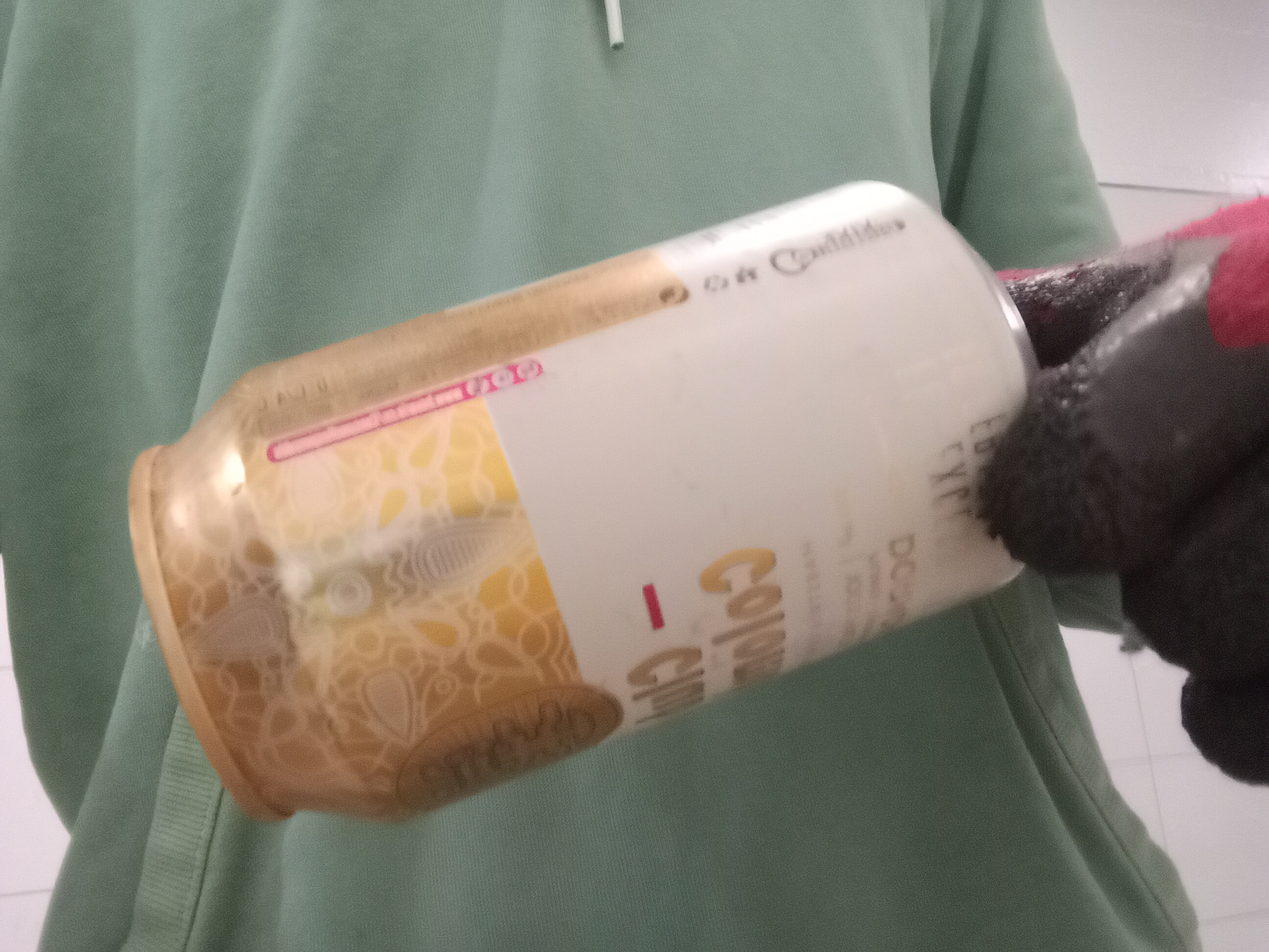Metal: (126, 179, 1046, 830)
